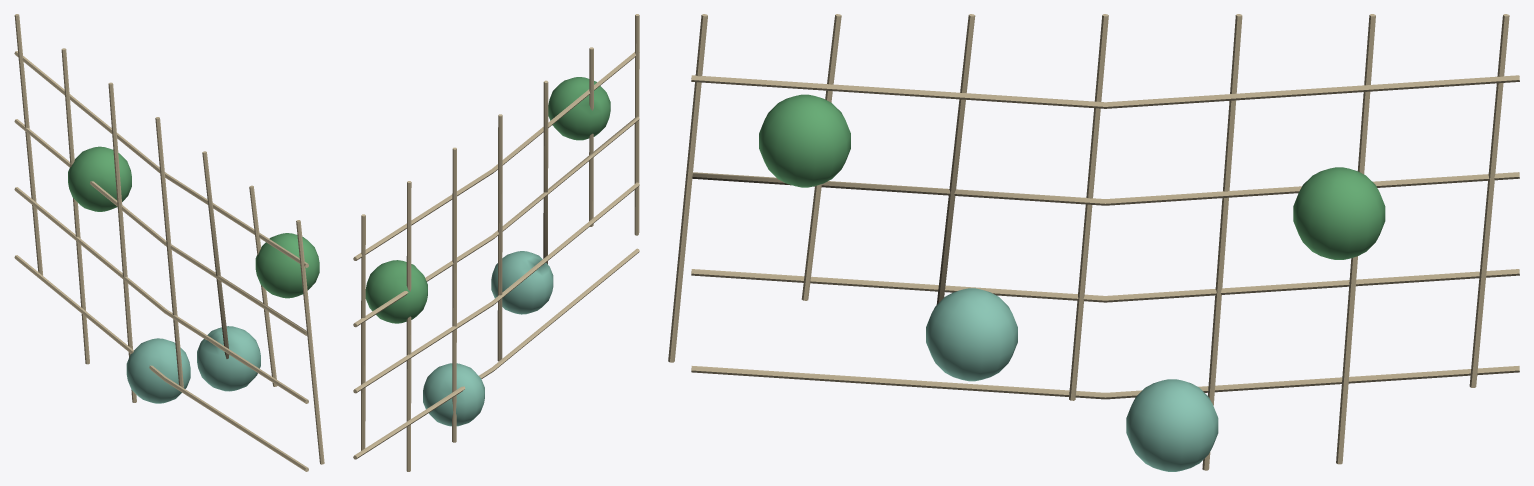
Rendered from netfloats.glb.
3 views of the same model, side by side, from view 1: azimuth 30°, elevation 25°; view 2: azimuth 150°, elevation 25°; view 3: azimuth 270°, elevation 25° (orthographic). The views are drawn at different scales.
Visible parts, largest first — view 1: boat_ropec, boat_glassfloat, boat_glassg; view 2: boat_ropec, boat_glassg, boat_glassfloat; view 3: boat_ropec, boat_glassfloat, boat_glassg.
Boxes of the visible parts, x1,y1,x2,y2 form: boat_ropec: [14, 14, 324, 471]; boat_glassfloat: [126, 326, 260, 403]; boat_glassg: [68, 146, 319, 298]; boat_ropec: [353, 14, 639, 471]; boat_glassg: [365, 77, 610, 323]; boat_glassfloat: [423, 251, 553, 426]; boat_ropec: [668, 14, 1519, 470]; boat_glassfloat: [926, 288, 1218, 471]; boat_glassg: [759, 94, 1385, 259].
Bounding box in the file's own units: 0.1344 × 0.7373 × 1.28.
